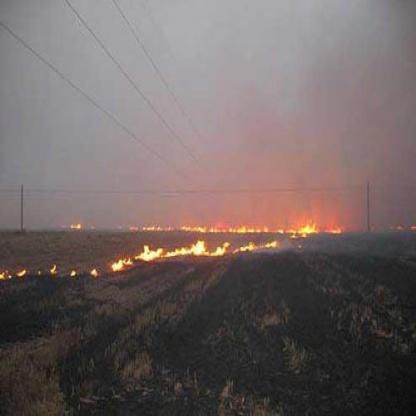fire: (64, 203, 343, 243), (100, 235, 282, 276), (0, 258, 96, 282)
